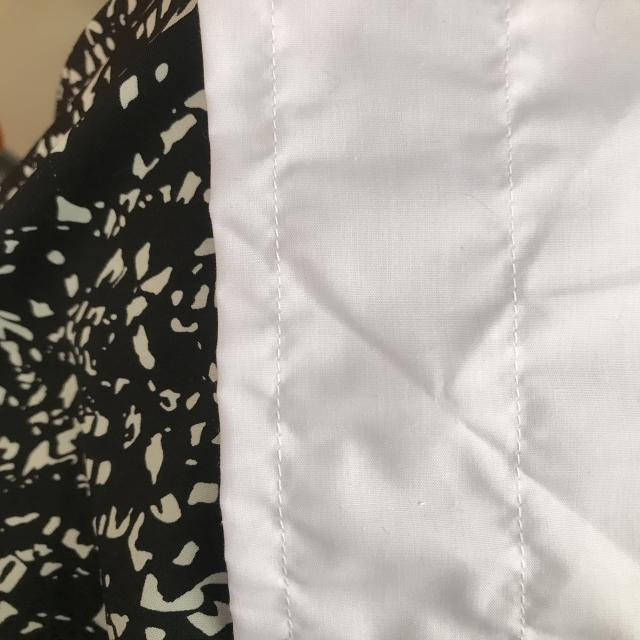good: (500, 256, 534, 382), (262, 270, 298, 385), (271, 439, 296, 596), (265, 121, 291, 249), (510, 493, 530, 566)
